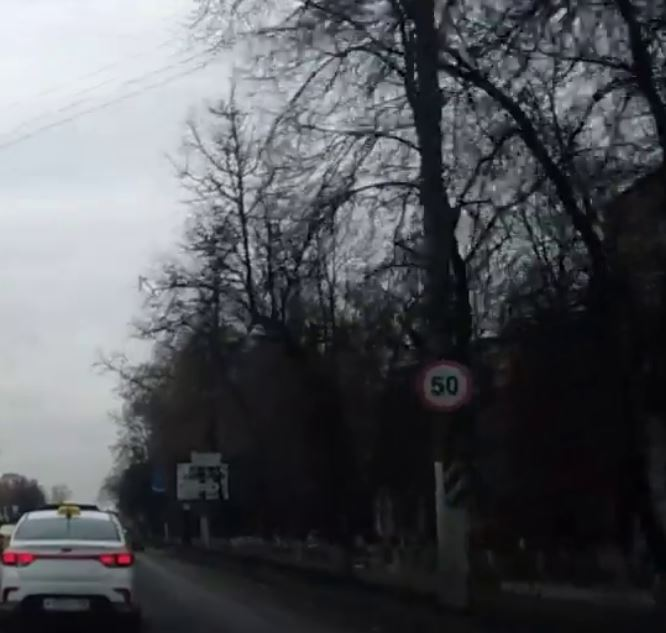50 Km Hiz Siniri: (415, 356, 476, 415)
